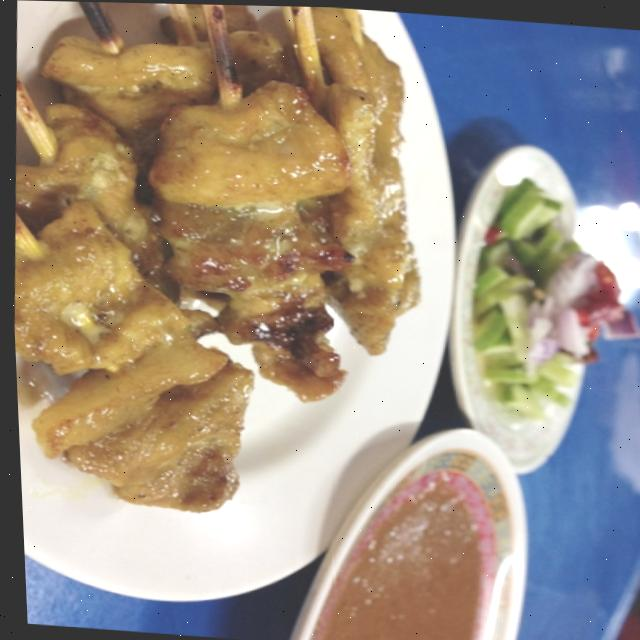牛肉菜式: (0, 0, 562, 635)
